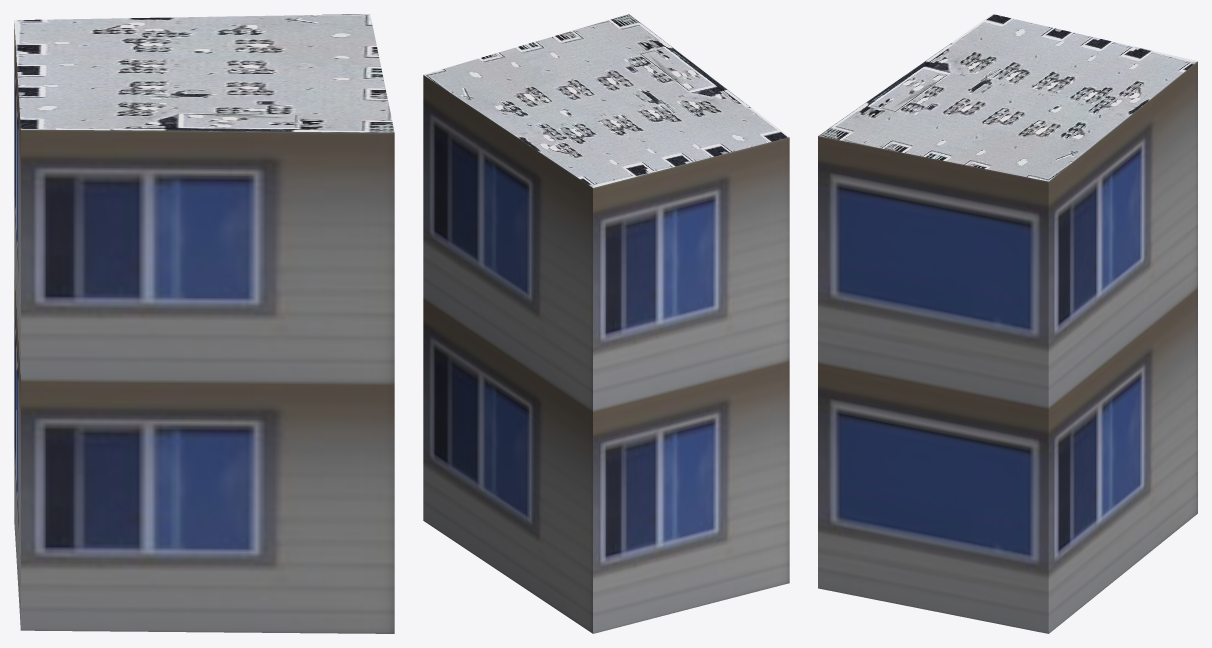
The model's file is ResTex__655.fbx.
The picture shows the model from 3 angles, left to right: view 1: azimuth 30°, elevation 25°; view 2: azimuth 150°, elevation 25°; view 3: azimuth 270°, elevation 25°; orthographic projection. The views are drawn at different scales.
Parts seen in each view (by area): view 1: CityEngineMaterial_23_m, CityEngineMaterial_4_m; view 2: CityEngineMaterial_23_m, CityEngineMaterial_4_m; view 3: CityEngineMaterial_23_m, CityEngineMaterial_4_m.
Boxes of the visible parts, x1,y1,x2,y2 form: CityEngineMaterial_23_m: (14,23,394,633); CityEngineMaterial_4_m: (14,14,394,132); CityEngineMaterial_23_m: (423,75,789,633); CityEngineMaterial_4_m: (423,14,789,187); CityEngineMaterial_23_m: (818,61,1197,633); CityEngineMaterial_4_m: (818,14,1197,181).
Size of the model in its own units: 4.77 by 6 by 4.57.
Materials: 2 (2 with a texture image).
